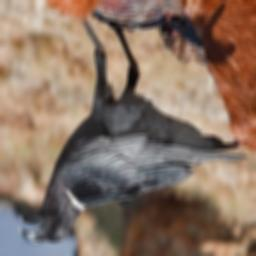Crow: (19, 11, 249, 250)
